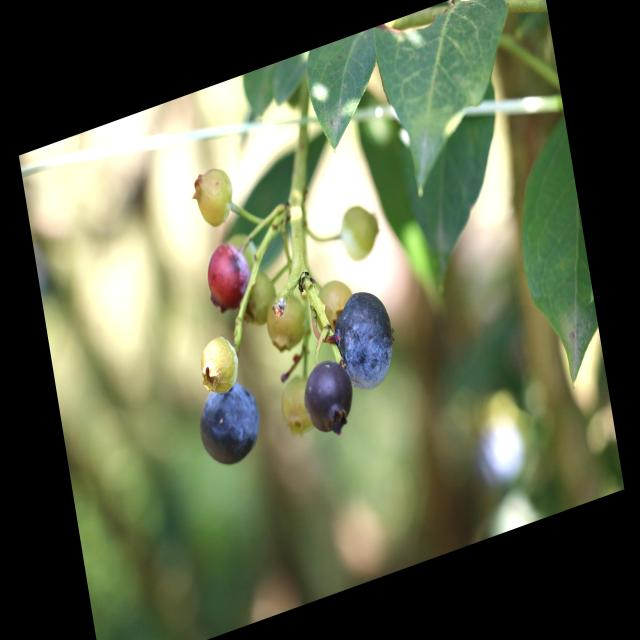blueberry: (326, 276, 406, 406), (189, 366, 269, 482), (297, 348, 363, 448)
blueberry-halfripe: (199, 238, 253, 315)
blueberry-unripe: (257, 283, 313, 361), (194, 329, 244, 404), (188, 160, 238, 233), (310, 271, 358, 340), (277, 368, 320, 438), (333, 200, 378, 264)
